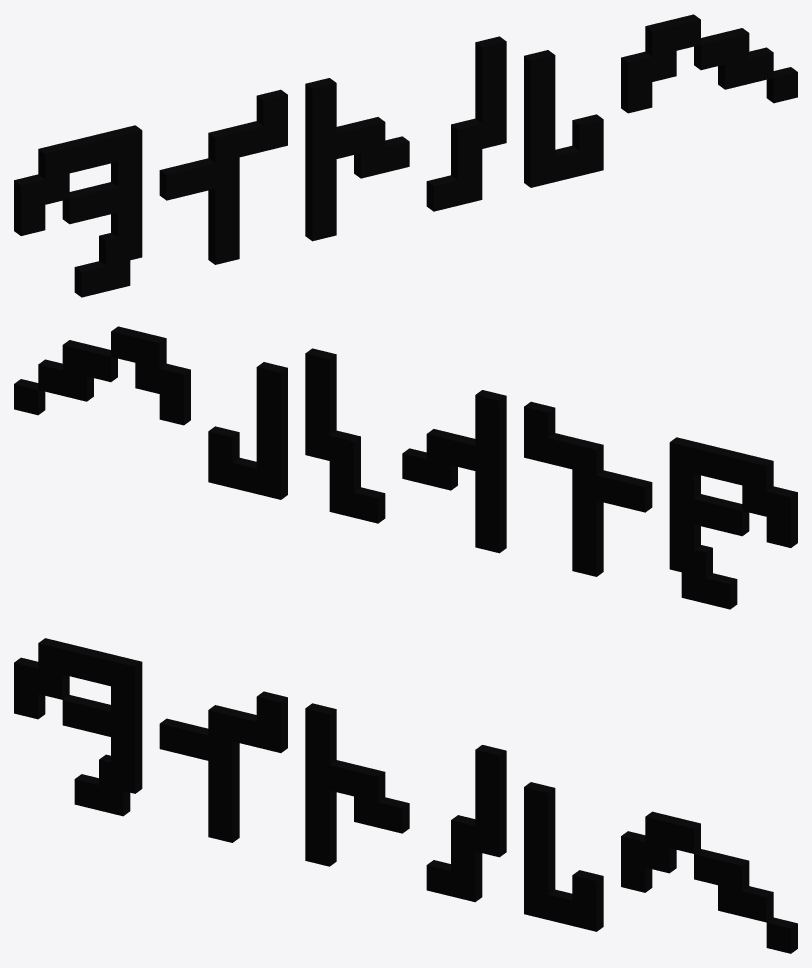
The model's file is ToTitle.obj.
The picture shows the model from 3 angles, top to bottom: view 1: azimuth 30°, elevation 25°; view 2: azimuth 150°, elevation 25°; view 3: azimuth 330°, elevation 25°; orthographic projection.
Size of the model in its own units: 6.4 by 1.2 by 0.1.
